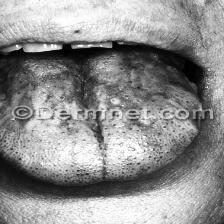Non-Cancerous Skin Condition: (0, 30, 195, 96), (9, 130, 224, 184)
